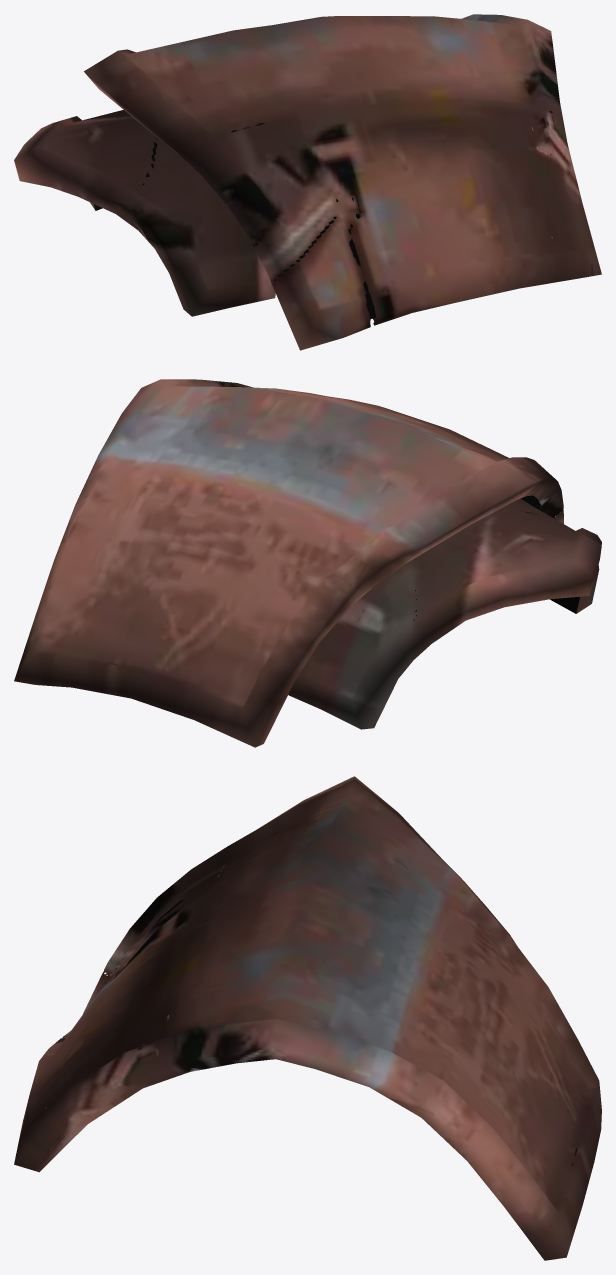
3 views of the same model, one above another, from view 1: azimuth 30°, elevation 25°; view 2: azimuth 150°, elevation 25°; view 3: azimuth 270°, elevation 25° (orthographic). The views are drawn at different scales.
Parts seen in each view (by area): view 1: SM_PropGreeve_LOD0; view 2: SM_PropGreeve_LOD0; view 3: SM_PropGreeve_LOD0.
Part boxes in pixels (box(x1,y1,x2,y2)): SM_PropGreeve_LOD0: box(14, 14, 601, 350); SM_PropGreeve_LOD0: box(14, 379, 601, 747); SM_PropGreeve_LOD0: box(14, 776, 601, 1260).
Bounding box in the file's own units: 0.2836 × 0.1398 × 0.2658.
